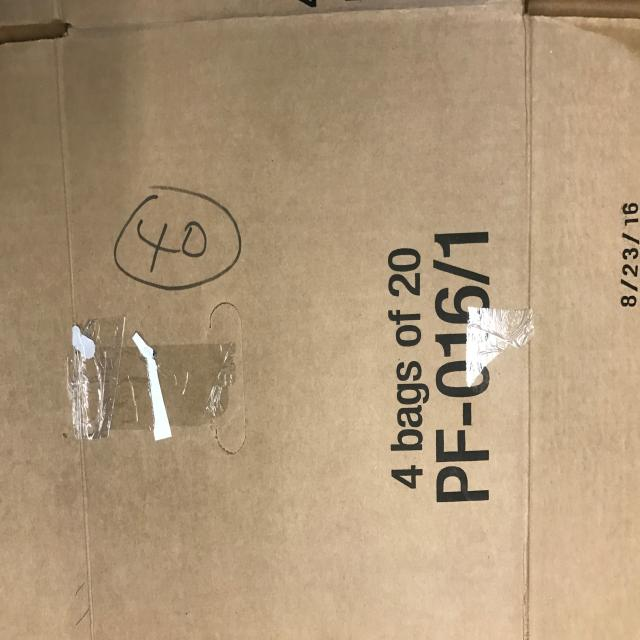cardboard: (2, 2, 638, 638)
